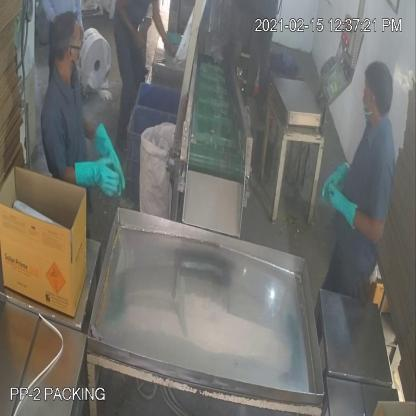glove: (71, 151, 117, 207), (90, 124, 129, 188), (324, 175, 363, 238), (320, 155, 356, 210)
no_glove: (112, 1, 154, 59), (151, 1, 182, 60)
